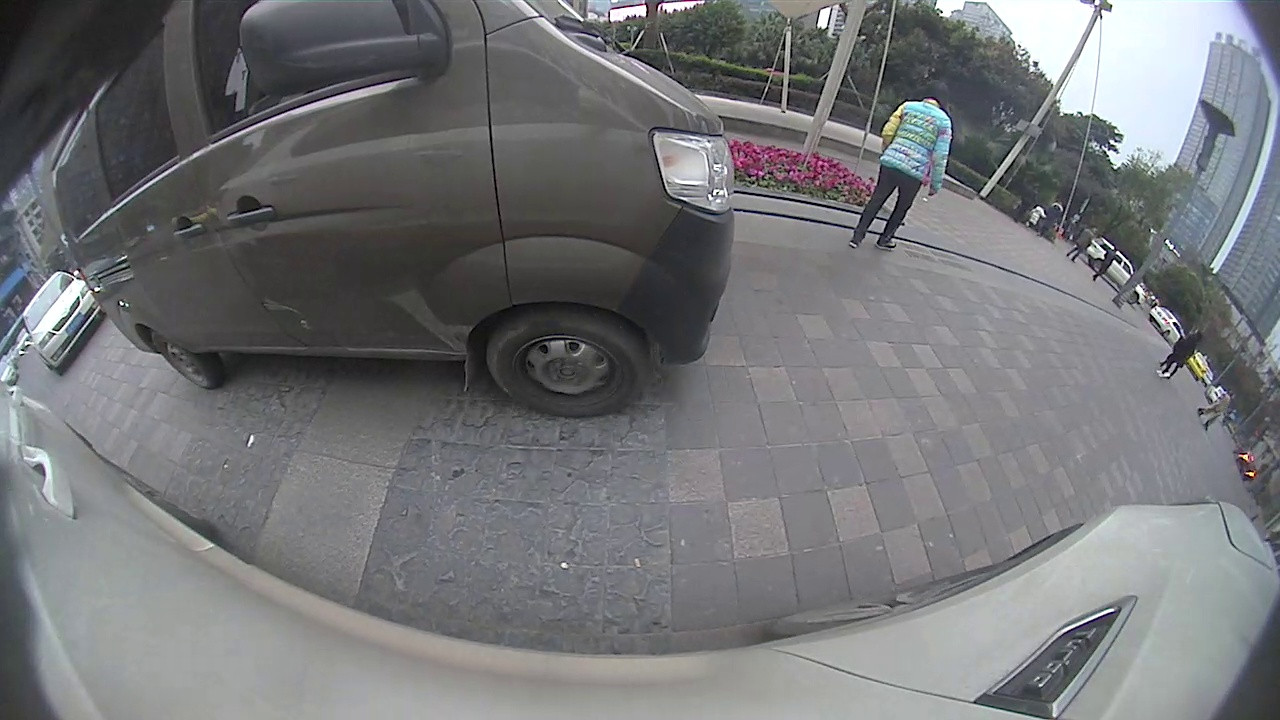car: (49, 2, 735, 417), (19, 269, 100, 372)
front: (490, 310, 650, 416)
person: (875, 77, 951, 250)
rear: (150, 331, 224, 390)
